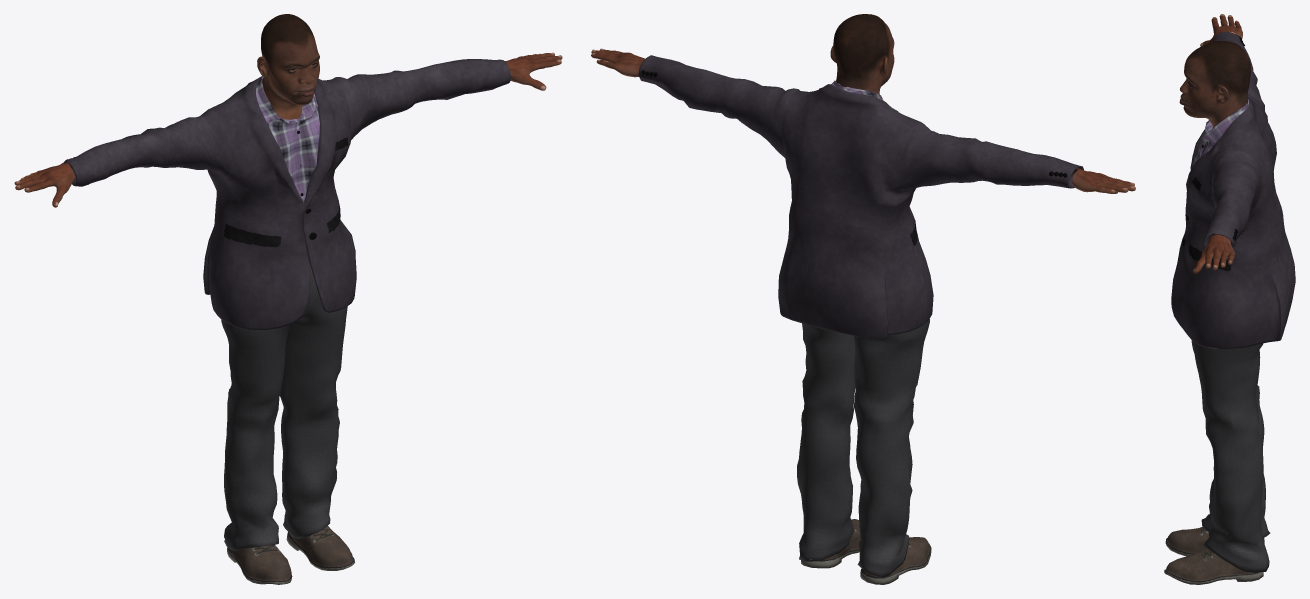
File: Barry.obj
3 renders of one model, left to right at view 1: azimuth 30°, elevation 25°; view 2: azimuth 150°, elevation 25°; view 3: azimuth 270°, elevation 25°, orthographic. The views are drawn at different scales.
Visible parts, largest first — view 1: Tops, Bottoms, Body, Shoes; view 2: Tops, Bottoms, Body, Shoes; view 3: Tops, Bottoms, Body, Shoes.
Boxes of the visible parts, x1,y1,x2,y2 form: Tops: (63, 59, 510, 329); Bottoms: (221, 255, 347, 551); Body: (14, 14, 562, 207); Shoes: (227, 526, 354, 584); Tops: (638, 55, 1083, 338); Bottoms: (797, 319, 929, 577); Body: (591, 14, 1135, 193); Shoes: (801, 519, 931, 584); Tops: (1171, 31, 1295, 349); Bottoms: (1191, 340, 1270, 572); Body: (1179, 14, 1250, 273); Shoes: (1164, 526, 1264, 584).
Size of the model in its own units: 193 by 184 by 42.11.
4 materials, 4 textured.
